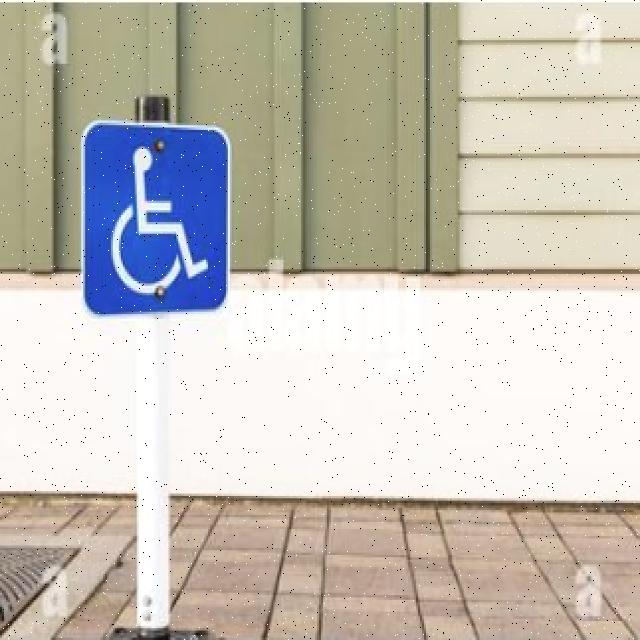symbol_of_access: (80, 118, 232, 318)
